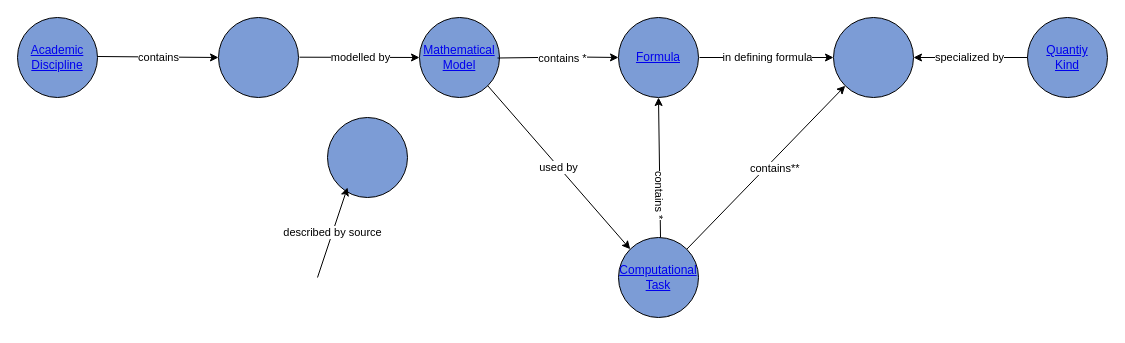
Some shapes in this 1125 by 343 pixel diagram are drawn without their labels. Here are the shapes that lost their labels. From the top down, the box of each, then its label:
(218, 16, 298, 98): Research Problem
(832, 16, 914, 98): Quantity
(326, 116, 408, 198): Publication
